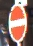No entry: (5, 5, 28, 41)
